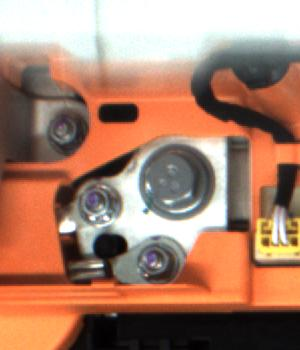nut_b: (138, 141, 217, 220)
screw_s: (134, 238, 182, 283), (73, 185, 122, 226), (46, 113, 85, 157)
